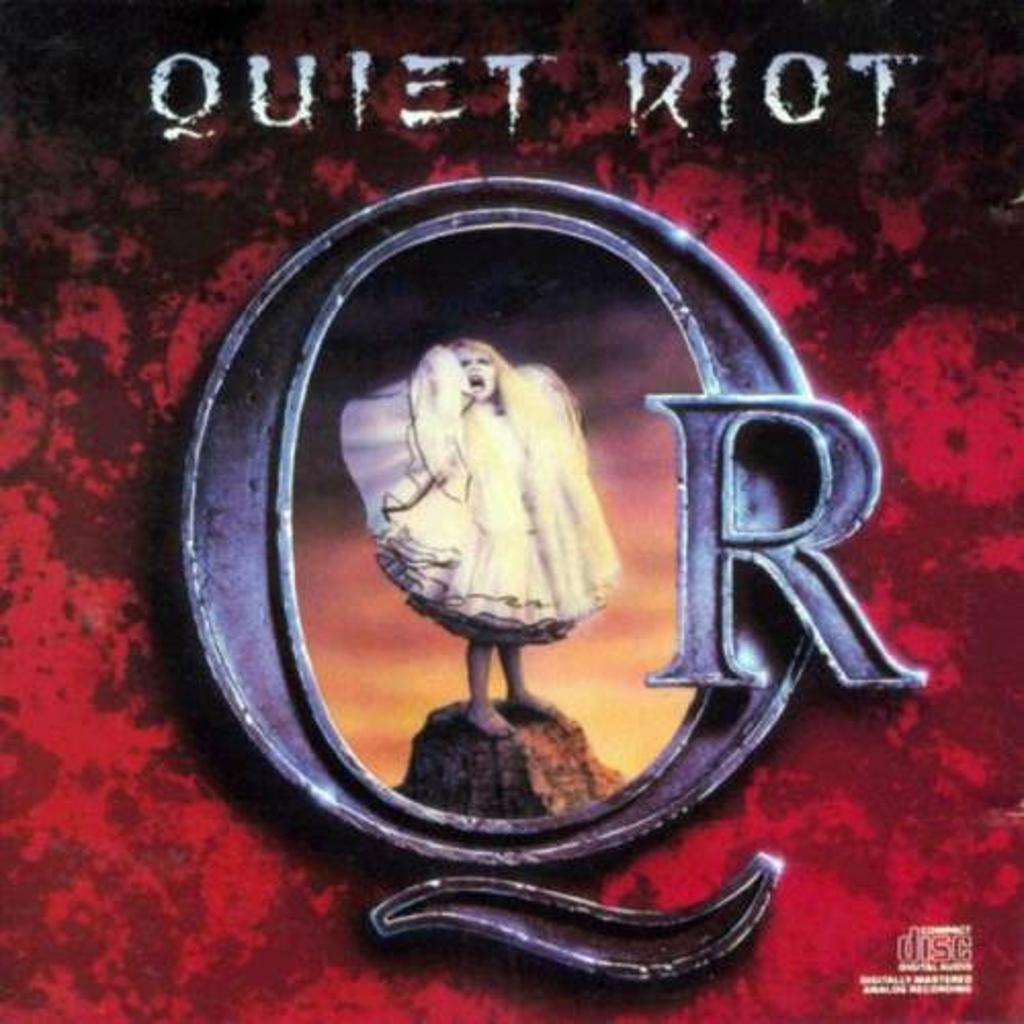face: (452, 346, 497, 399)
